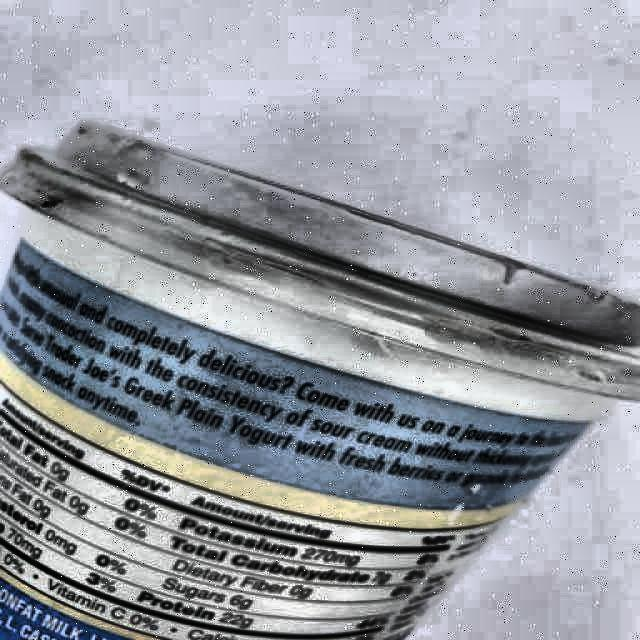plastic: (0, 125, 640, 640)
